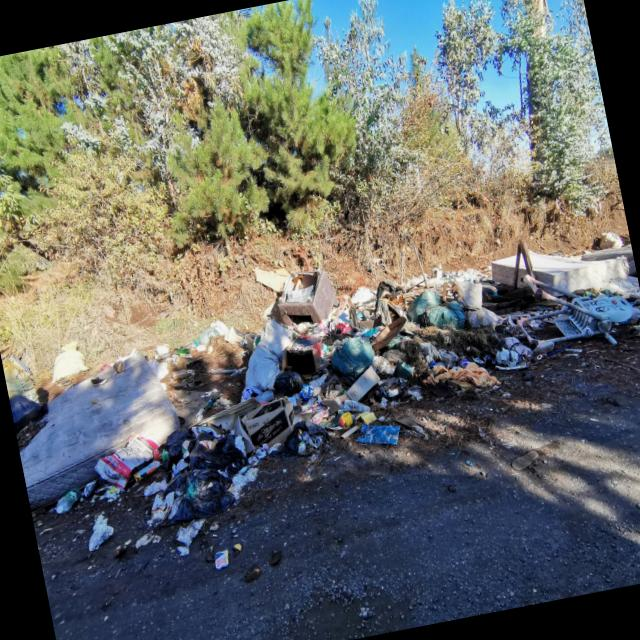garbage: (0, 196, 640, 542)
